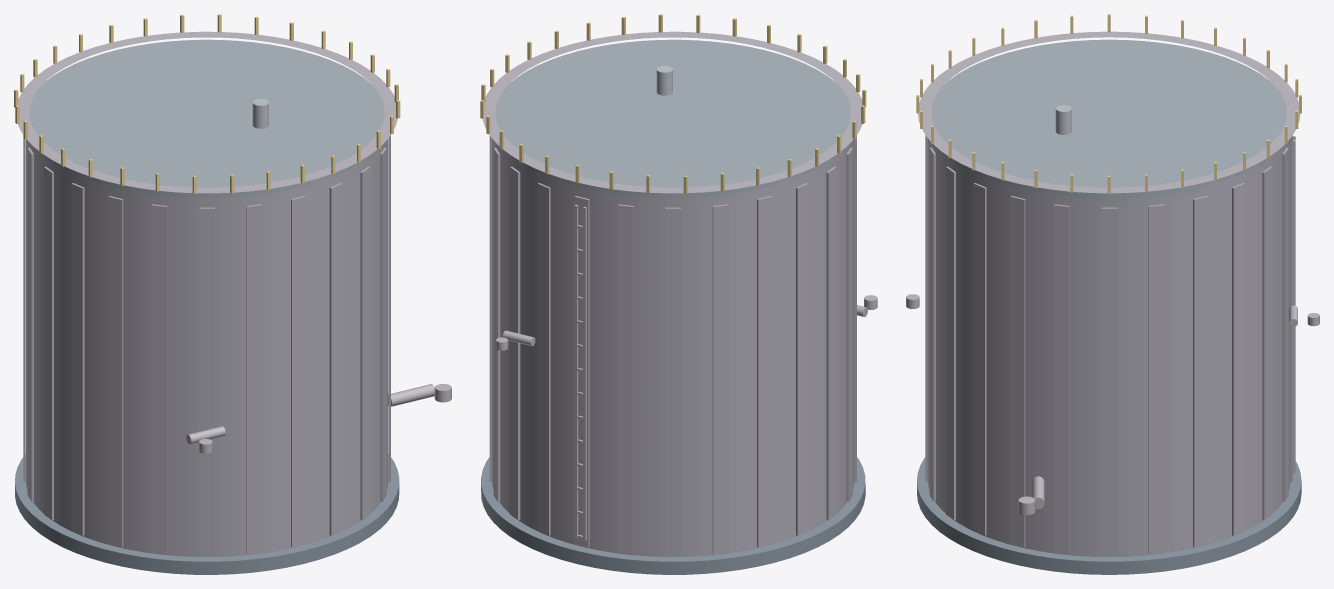
File: tank_b.glb
The picture shows the model from 3 angles, left to right: view 1: azimuth 30°, elevation 25°; view 2: azimuth 150°, elevation 25°; view 3: azimuth 270°, elevation 25°; orthographic projection.
Parts seen in each view (by area): view 1: shell, seal, foundation, walkway, panel_7, panel_10, panel_9, panel_8, panel_6, panel_5, panel_11, panel_4 (+6 smaller); view 2: shell, seal, foundation, walkway, panel_16, panel_15, panel_17, panel_14, panel_19, panel_13, panel_12, panel_20 (+7 smaller); view 3: shell, seal, foundation, walkway, panel_0, panel_23, panel_1, panel_2, panel_22, panel_3, panel_21, panel_20 (+7 smaller).
Boxes of the visible parts, x1,y1,x2,y2 form: shell: (26, 139, 388, 557); seal: (29, 39, 384, 203); foundation: (15, 454, 399, 574); walkway: (18, 31, 397, 193); panel_7: (246, 204, 262, 554); panel_10: (108, 196, 123, 547); panel_9: (152, 204, 167, 554); panel_8: (199, 207, 214, 556); panel_6: (291, 196, 305, 547); panel_5: (329, 183, 342, 535); panel_11: (71, 183, 84, 535); panel_4: (360, 166, 370, 520); shell: (492, 138, 854, 557); seal: (495, 39, 850, 203); foundation: (481, 457, 865, 574); walkway: (482, 31, 862, 193); panel_16: (665, 207, 681, 556); panel_15: (712, 204, 728, 554); panel_17: (618, 204, 633, 554); panel_14: (757, 196, 771, 547); panel_19: (537, 183, 550, 535); panel_13: (796, 183, 808, 535); panel_12: (826, 166, 836, 520); panel_20: (510, 166, 520, 520); shell: (927, 138, 1290, 557); seal: (931, 39, 1286, 203); foundation: (917, 457, 1301, 574); walkway: (918, 31, 1300, 193); panel_0: (1101, 207, 1117, 556); panel_23: (1148, 204, 1164, 554); panel_1: (1054, 204, 1069, 554); panel_2: (1010, 196, 1025, 547); panel_22: (1193, 196, 1207, 547); panel_3: (973, 183, 986, 535); panel_21: (1232, 183, 1244, 535); panel_20: (1262, 166, 1272, 520).
Size of the model in its own units: 5.53 by 5.72 by 5.36.
